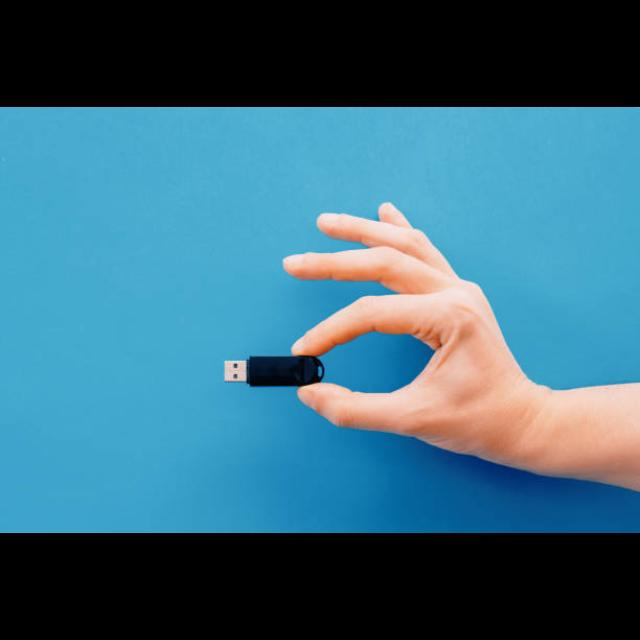USB-Flash-Drive: (224, 356, 326, 389), (224, 357, 327, 389)
